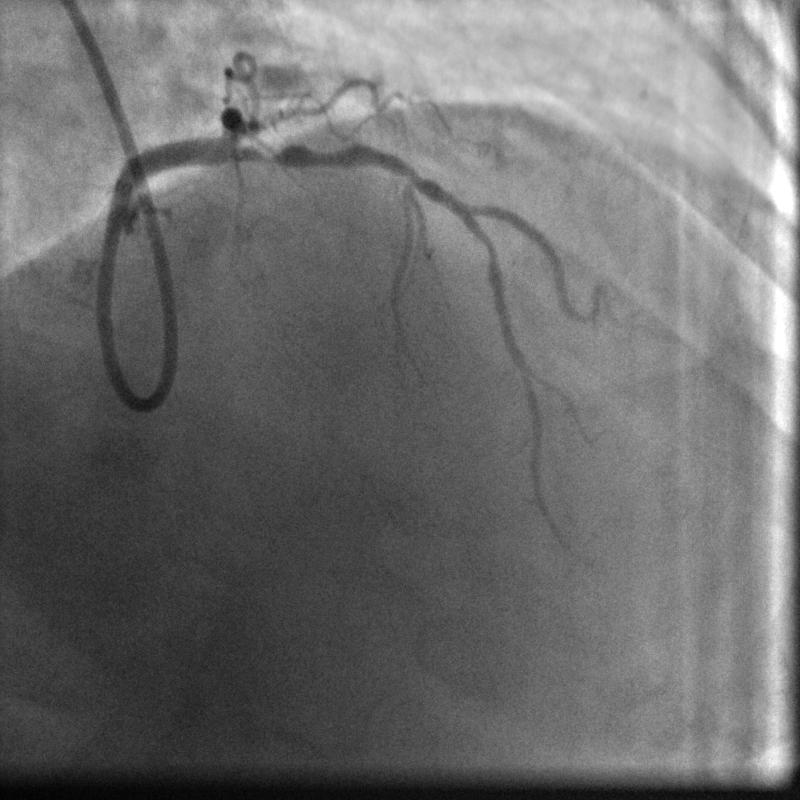Stenosis: (251, 136, 363, 166)
